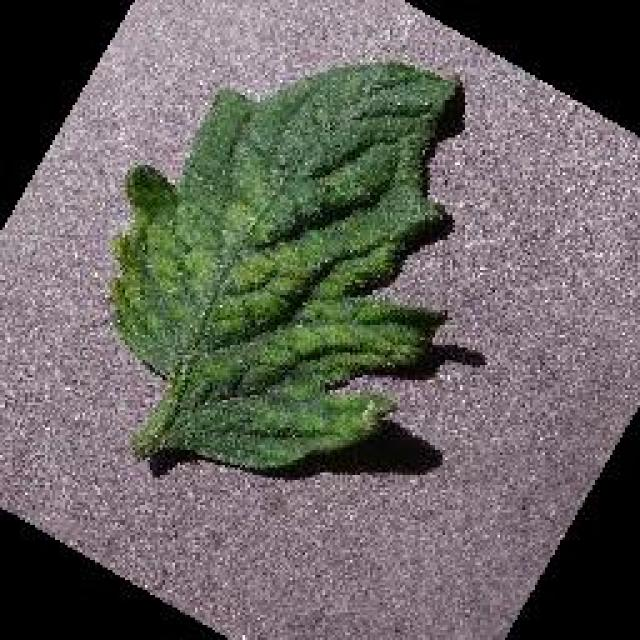Tomato___Tomato_mosaic_virus: (110, 62, 460, 472)
